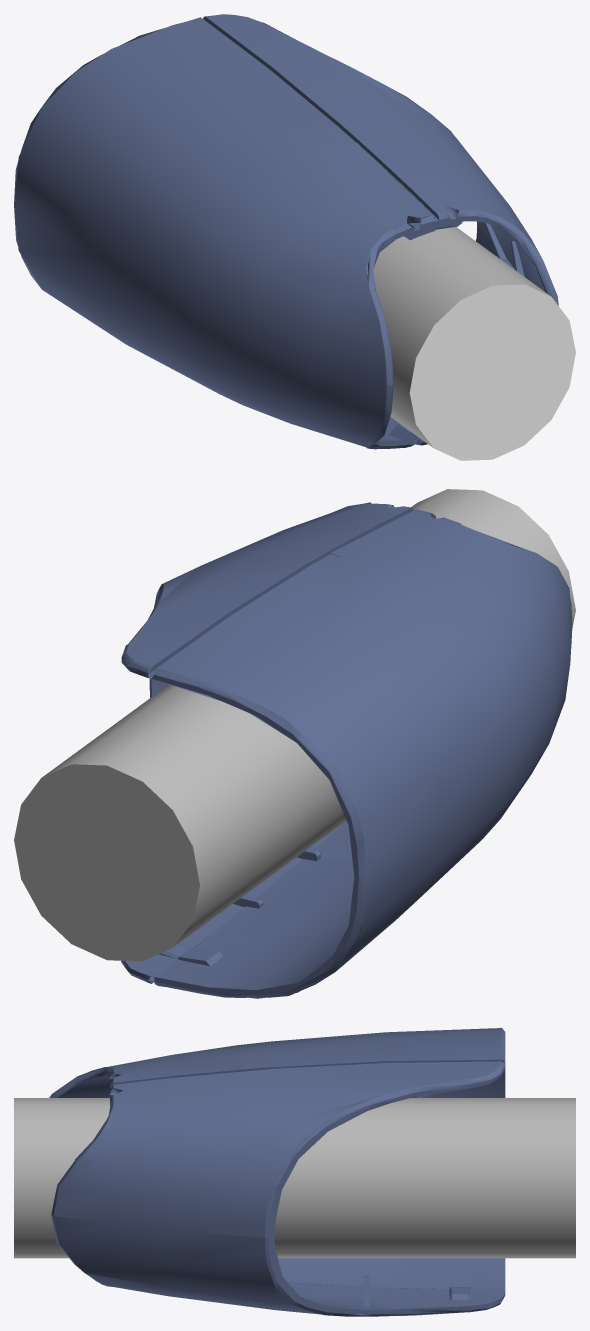
File: icub_l_forearm.glb
The picture shows the model from 3 angles, top to bottom: view 1: azimuth 30°, elevation 25°; view 2: azimuth 150°, elevation 25°; view 3: azimuth 270°, elevation 25°; orthographic projection. The views are drawn at different scales.
Parts seen in each view (by area): view 1: l_forearm_mesh.001, l_forearm_cyl_mesh.001, l_forearm_mesh, l_forearm_cyl_mesh; view 2: l_forearm_mesh.001, l_forearm_cyl_mesh, l_forearm_mesh; view 3: l_forearm_mesh, l_forearm_cyl_mesh, l_forearm_mesh.001.
Part boxes in pixels (x1,y1,x2,y2): l_forearm_mesh.001: (14,17,435,449); l_forearm_cyl_mesh.001: (409,284,575,460); l_forearm_mesh: (203,14,558,305); l_forearm_cyl_mesh: (373,227,549,447); l_forearm_mesh.001: (154,509,572,998); l_forearm_cyl_mesh: (14,489,575,961); l_forearm_mesh: (121,502,413,983); l_forearm_mesh: (51,1061,505,1316); l_forearm_cyl_mesh: (14,1098,575,1258); l_forearm_mesh.001: (49,1027,505,1289).
Size of the model in its own units: 0.0804 by 0.0654 by 0.14.
